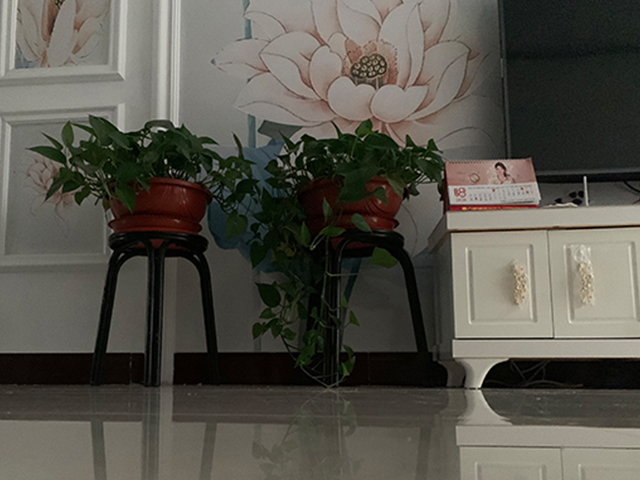cabinet: (425, 204, 640, 390)
stool: (297, 227, 434, 388), (88, 230, 221, 388)
